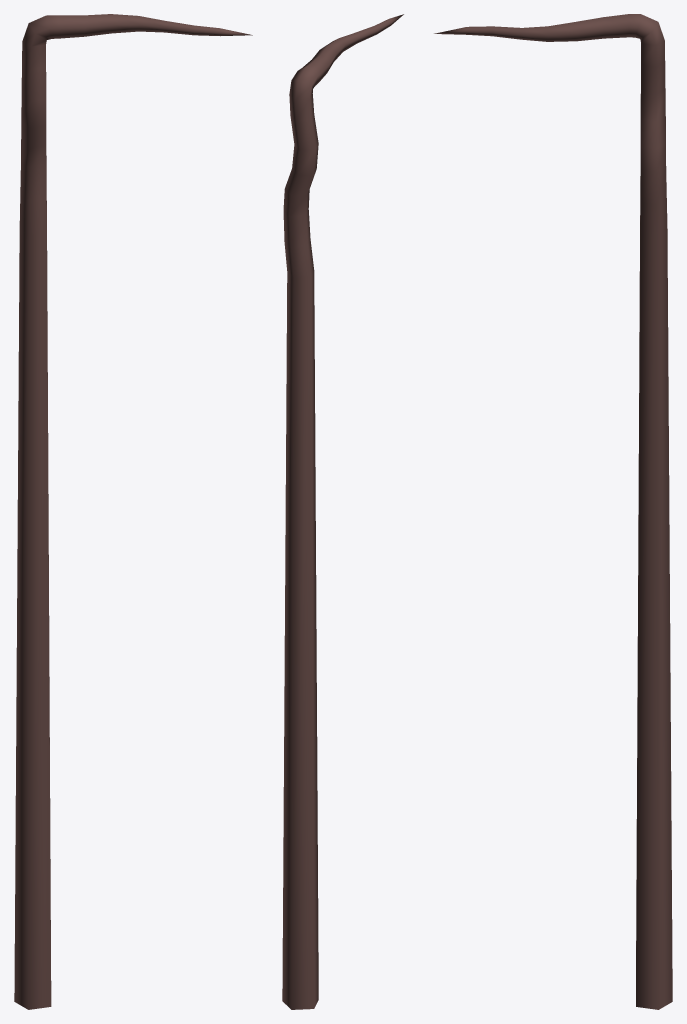
The model's file is root_hole_002.fbx.
The picture shows the model from 3 angles, left to right: view 1: azimuth 90°, elevation 25°; view 2: azimuth 150°, elevation 25°; view 3: azimuth 270°, elevation 25°; orthographic projection. The views are drawn at different scales.
Parts seen in each view (by area): view 1: root.hole.002; view 2: root.hole.002; view 3: root.hole.002.
Part boxes in pixels (x1,y1,x2,y2): root.hole.002: (14, 14, 252, 1009); root.hole.002: (282, 14, 403, 1009); root.hole.002: (434, 14, 672, 1009).
Bounding box in the file's own units: 77.8 × 2038 × 448.
